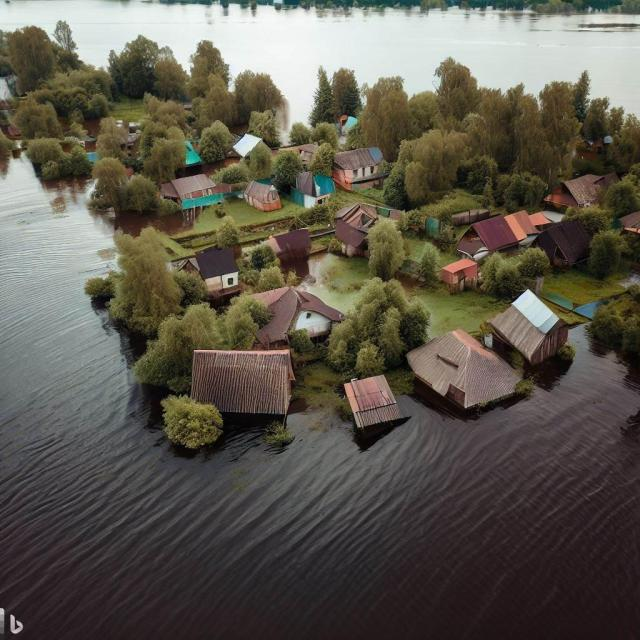flood: (0, 159, 640, 640), (0, 0, 640, 122)
house: (409, 331, 514, 418), (193, 344, 295, 421), (492, 284, 573, 371), (456, 208, 540, 256), (346, 374, 404, 441), (184, 240, 240, 298), (168, 169, 232, 212), (538, 220, 594, 267), (549, 170, 613, 211), (330, 201, 375, 257), (333, 143, 388, 188), (292, 308, 330, 360), (263, 228, 313, 262), (440, 259, 480, 297), (296, 169, 332, 209), (244, 180, 284, 214)
